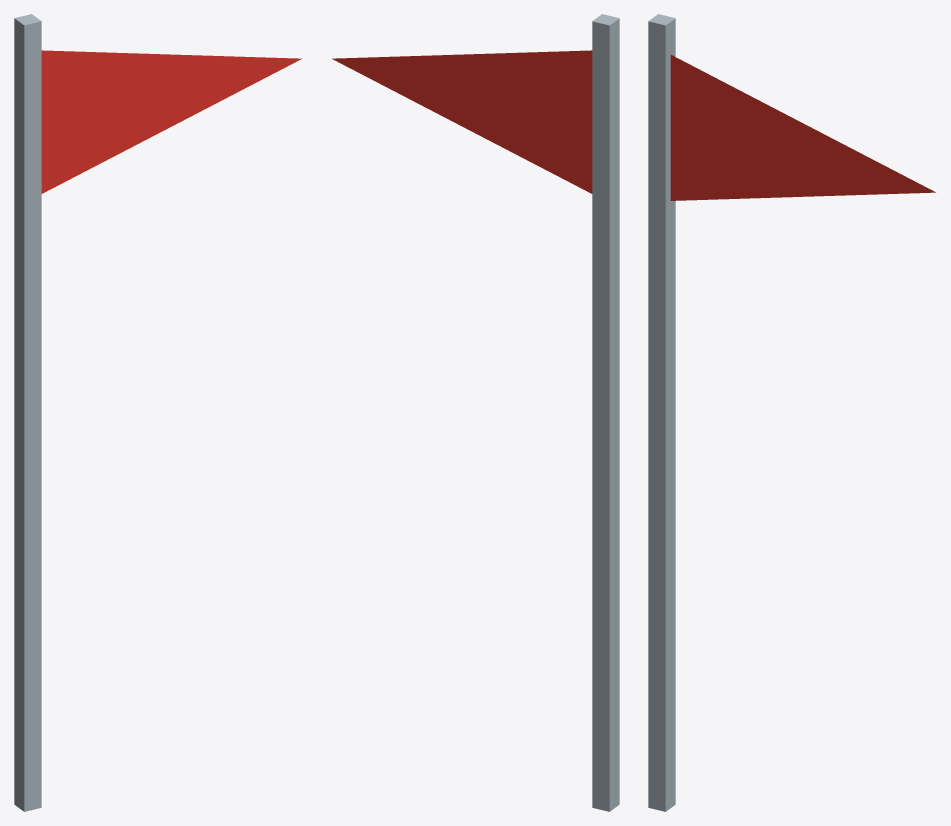
File: Flag_And_Pole.obj
The picture shows the model from 3 angles, left to right: view 1: azimuth 30°, elevation 25°; view 2: azimuth 150°, elevation 25°; view 3: azimuth 330°, elevation 25°; orthographic projection.
Parts seen in each view (by area): view 1: Flag_And_Pole; view 2: Flag_And_Pole; view 3: Flag_And_Pole.
Boxes of the visible parts, x1=… form: Flag_And_Pole: x1=14, y1=14, x2=301, y2=811; Flag_And_Pole: x1=332, y1=14, x2=619, y2=811; Flag_And_Pole: x1=648, y1=14, x2=935, y2=811.
Size of the model in its own units: 0.098 by 0.26 by 0.006.
